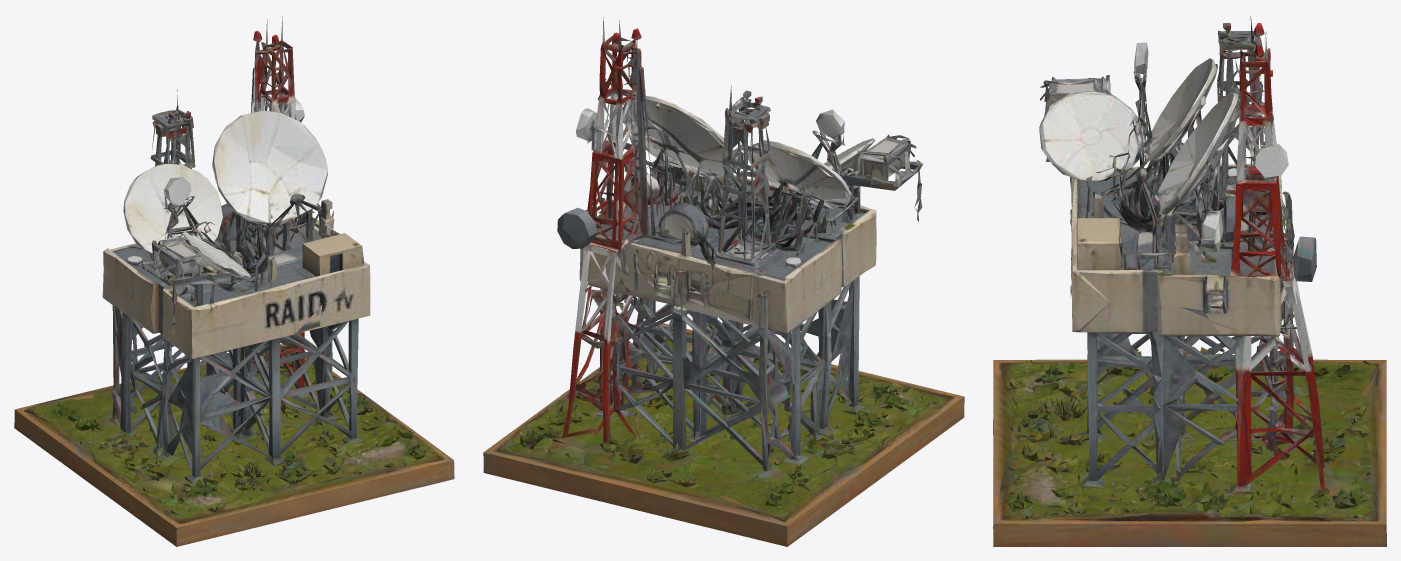
File: radiotv.glb
3 views of the same model, side by side, from view 1: azimuth 30°, elevation 25°; view 2: azimuth 150°, elevation 25°; view 3: azimuth 270°, elevation 25° (orthographic). The views are drawn at different scales.
Visible parts, largest first — view 1: output_unwrapped; view 2: output_unwrapped; view 3: output_unwrapped.
Part boxes in pixels (<box>): output_unwrapped: <box>14,15,454,546</box>; output_unwrapped: <box>483,17,964,546</box>; output_unwrapped: <box>993,16,1386,546</box>.
Bounding box in the file's own units: 1.39 × 1.9 × 1.41.
Materials: 1 (1 with a texture image).
